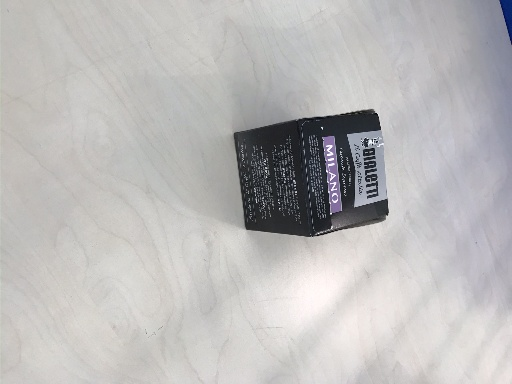Caffe: (235, 109, 392, 236)
